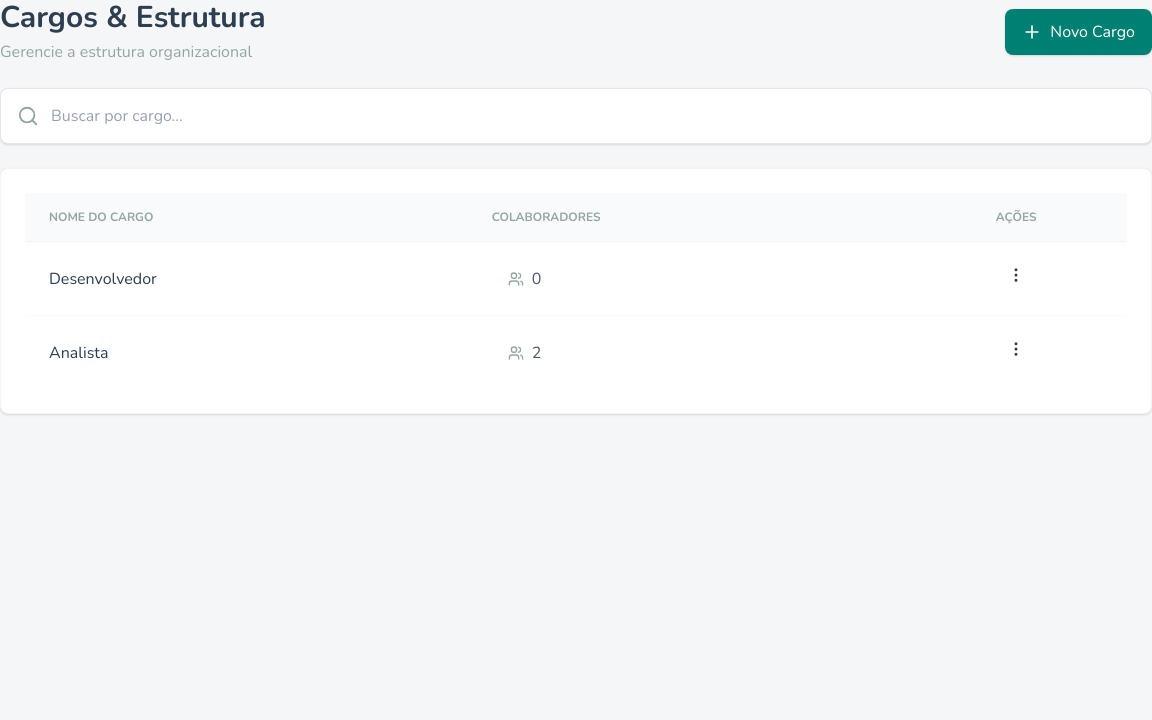
Test: Positions Page (Cargos) › deve abrir o modal de criação ao clicar em "Novo Cargo"
Click the button "Novo Cargo".
click(1079, 32)  # box x1=1005 y1=9 x2=1151 y2=55
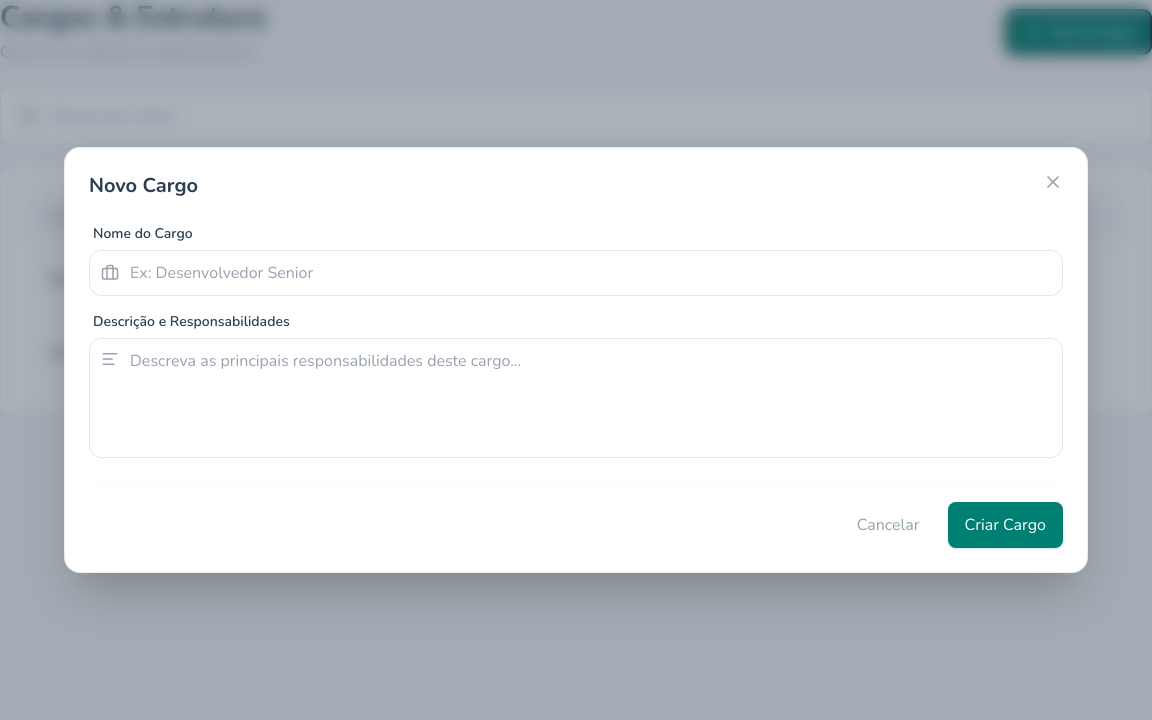
Result: the dialog "Novo Cargo" is shown
